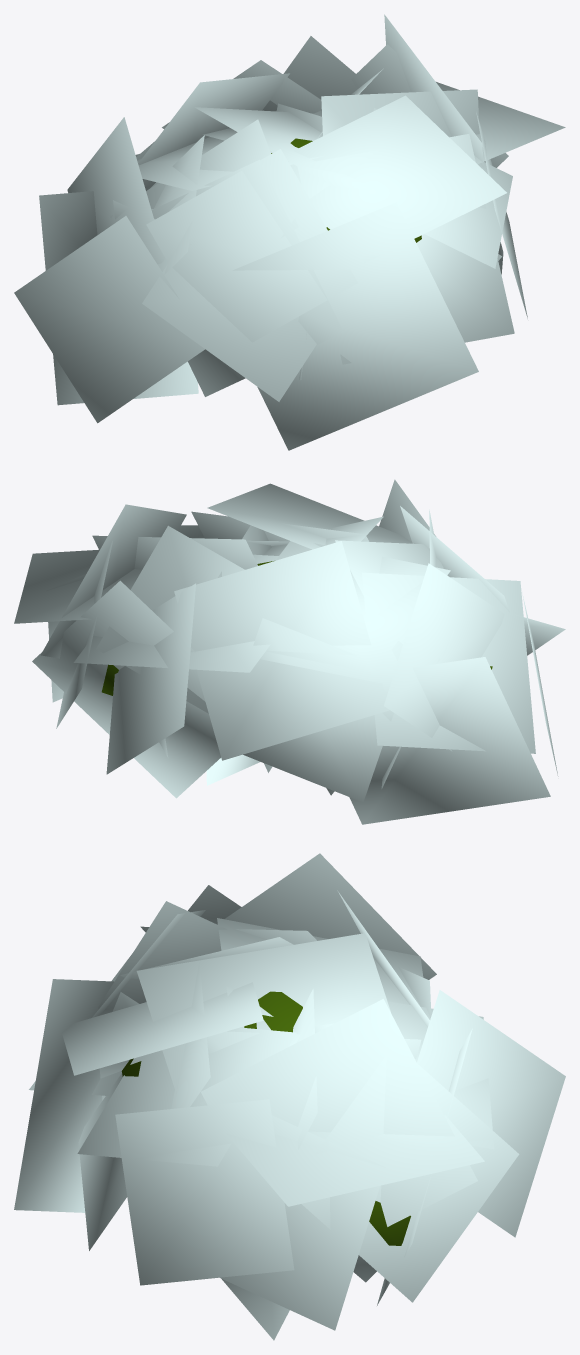
Rendered from shrub_mound.gltf.
3 renders of one model, top to bottom at view 1: azimuth 30°, elevation 25°; view 2: azimuth 150°, elevation 25°; view 3: azimuth 270°, elevation 25°, orthographic. The views are drawn at different scales.
Parts seen in each view (by area): view 1: shrub_mound_Leaf_Mid; view 2: shrub_mound_Leaf_Mid; view 3: shrub_mound_Leaf_Mid, shrub_mound_Core_Mid.
Boxes of the visible parts, x1=… form: shrub_mound_Leaf_Mid: x1=14, y1=14, x2=565, y2=450; shrub_mound_Leaf_Mid: x1=14, y1=479, x2=565, y2=824; shrub_mound_Leaf_Mid: x1=14, y1=853, x2=565, y2=1340; shrub_mound_Core_Mid: x1=121, y1=991, x2=410, y2=1245.
Size of the model in its own units: 3.28 by 1.85 by 2.55.
